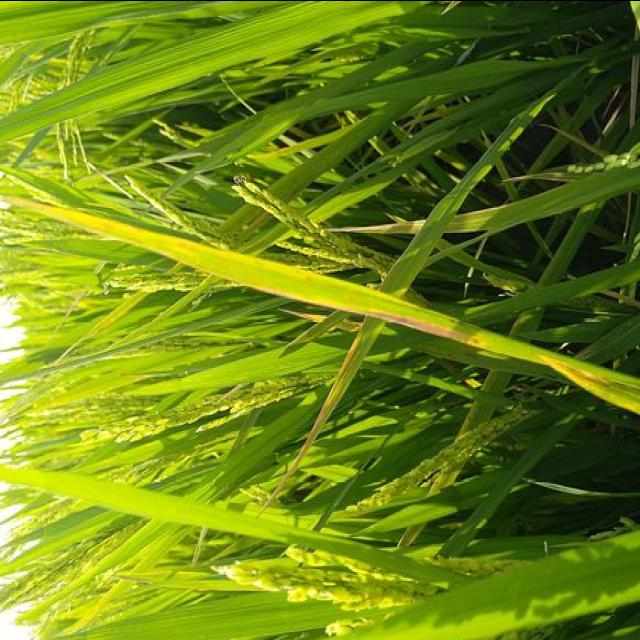Leaf Blight: (27, 203, 640, 409), (258, 316, 386, 517)
